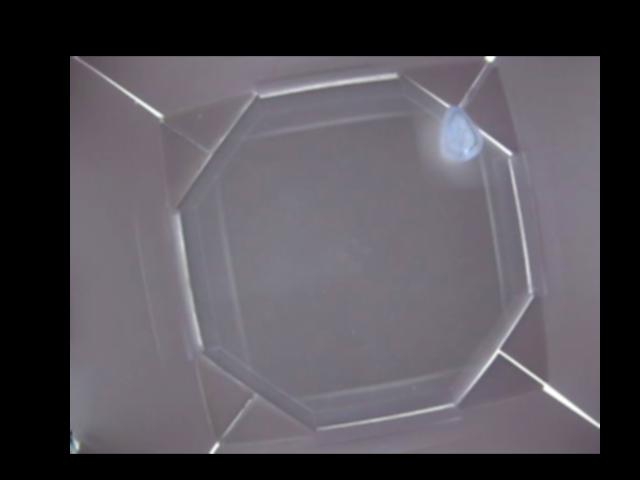Pebble: (440, 102, 482, 163)
